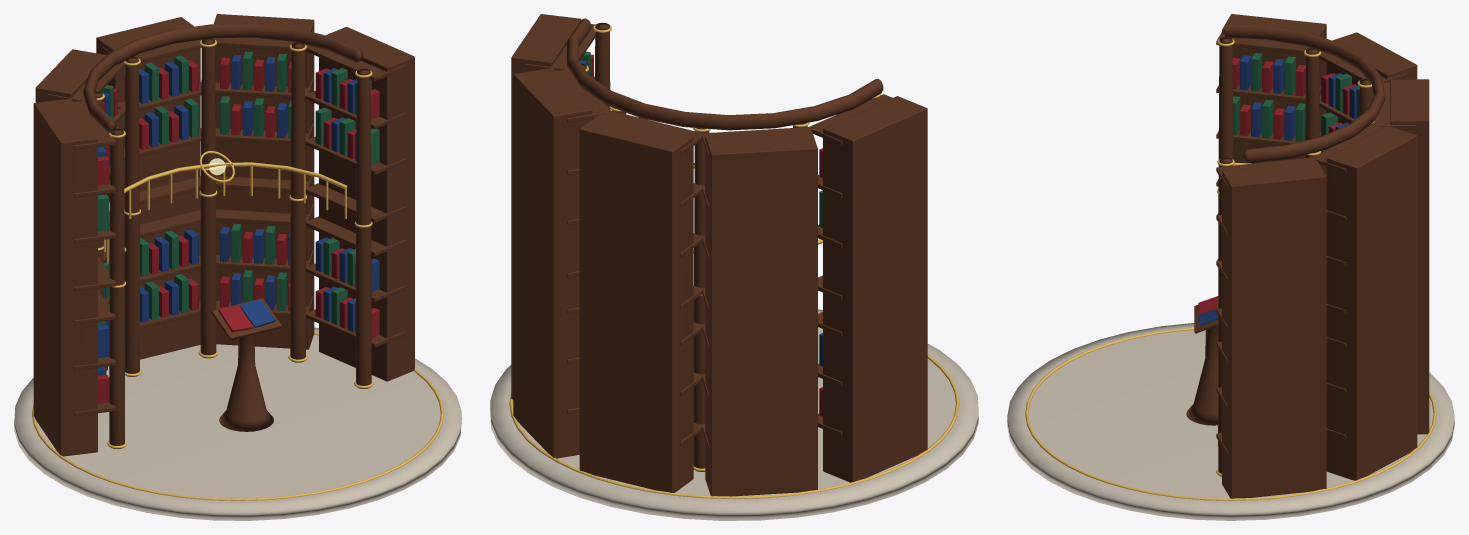
The model's file is webtoon-grand-spiral-library-rotunda-v16.glb.
The picture shows the model from 3 angles, left to right: view 1: azimuth 30°, elevation 25°; view 2: azimuth 150°, elevation 25°; view 3: azimuth 270°, elevation 25°; orthographic projection. The views are drawn at different scales.
Parts seen in each view (by area): view 1: LibraryWalnutRotunda.001, LibraryRotundaFloor.001, LibraryEmeraldGrimoires.001, LibrarySapphireGrimoires.001, LibraryCrimsonGrimoires.001, LibraryBrassBalustrade.001; view 2: LibraryWalnutRotunda.001, LibraryRotundaFloor.001, LibraryBrassBalustrade.001; view 3: LibraryWalnutRotunda.001, LibraryRotundaFloor.001, LibraryEmeraldGrimoires.001, LibraryBrassBalustrade.001, LibraryCrimsonGrimoires.001, LibrarySapphireGrimoires.001.
Boxes of the visible parts, x1=… form: LibraryWalnutRotunda.001: x1=33, y1=14, x2=414, y2=456; LibraryRotundaFloor.001: x1=14, y1=327, x2=461, y2=520; LibraryEmeraldGrimoires.001: x1=98, y1=51, x2=379, y2=333; LibrarySapphireGrimoires.001: x1=98, y1=54, x2=379, y2=375; LibraryCrimsonGrimoires.001: x1=98, y1=57, x2=379, y2=403; LibraryBrassBalustrade.001: x1=32, y1=40, x2=443, y2=500; LibraryWalnutRotunda.001: x1=511, y1=14, x2=927, y2=496; LibraryRotundaFloor.001: x1=490, y1=309, x2=978, y2=520; LibraryBrassBalustrade.001: x1=509, y1=25, x2=959, y2=499; LibraryWalnutRotunda.001: x1=1186, y1=14, x2=1429, y2=498; LibraryRotundaFloor.001: x1=1007, y1=323, x2=1454, y2=520; LibraryEmeraldGrimoires.001: x1=1233, y1=53, x2=1359, y2=149; LibraryBrassBalustrade.001: x1=1025, y1=39, x2=1436, y2=500; LibraryCrimsonGrimoires.001: x1=1198, y1=57, x2=1356, y2=314; LibrarySapphireGrimoires.001: x1=1198, y1=55, x2=1359, y2=325.
Size of the model in its own units: 3.9 by 3.27 by 3.9.
